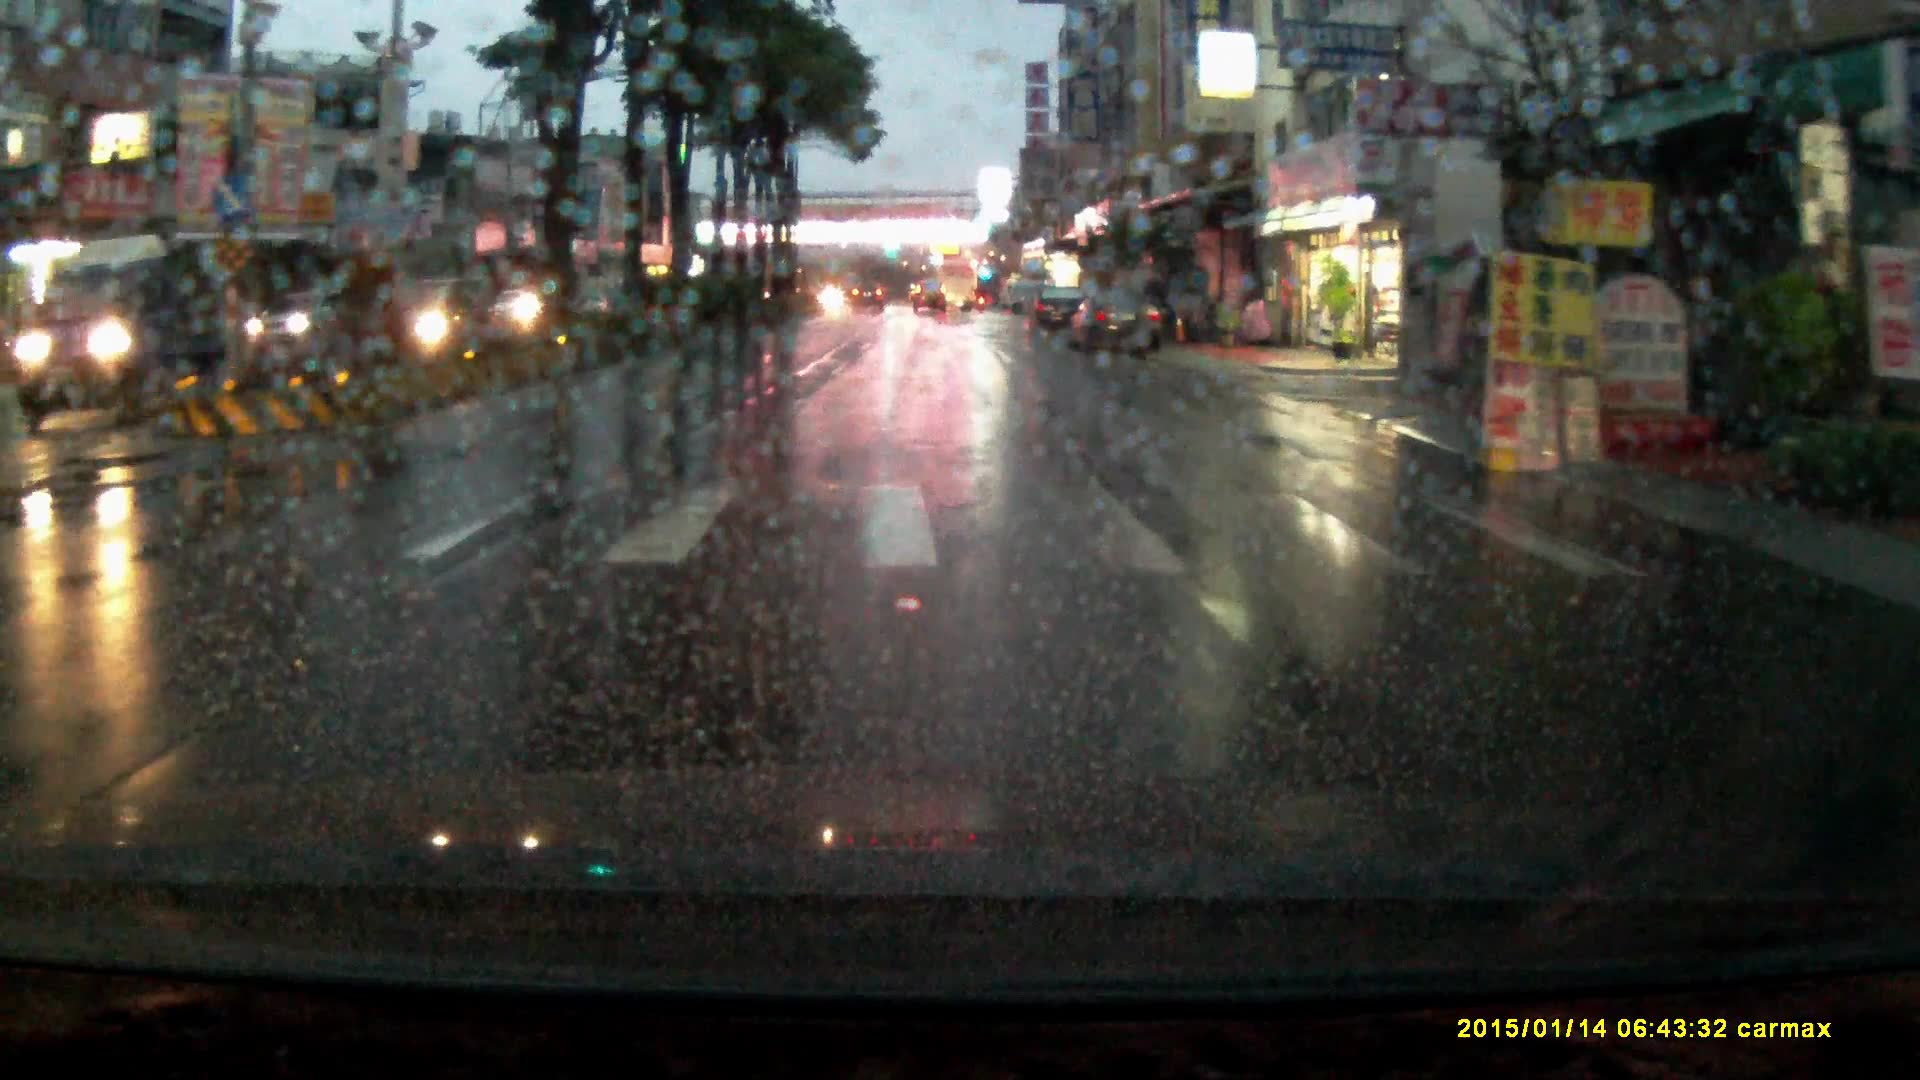vehicle: (24, 229, 272, 415), (360, 277, 504, 357), (1068, 289, 1168, 363), (257, 290, 363, 357), (1029, 287, 1087, 340), (931, 257, 978, 316), (915, 280, 949, 319), (852, 284, 887, 315)
